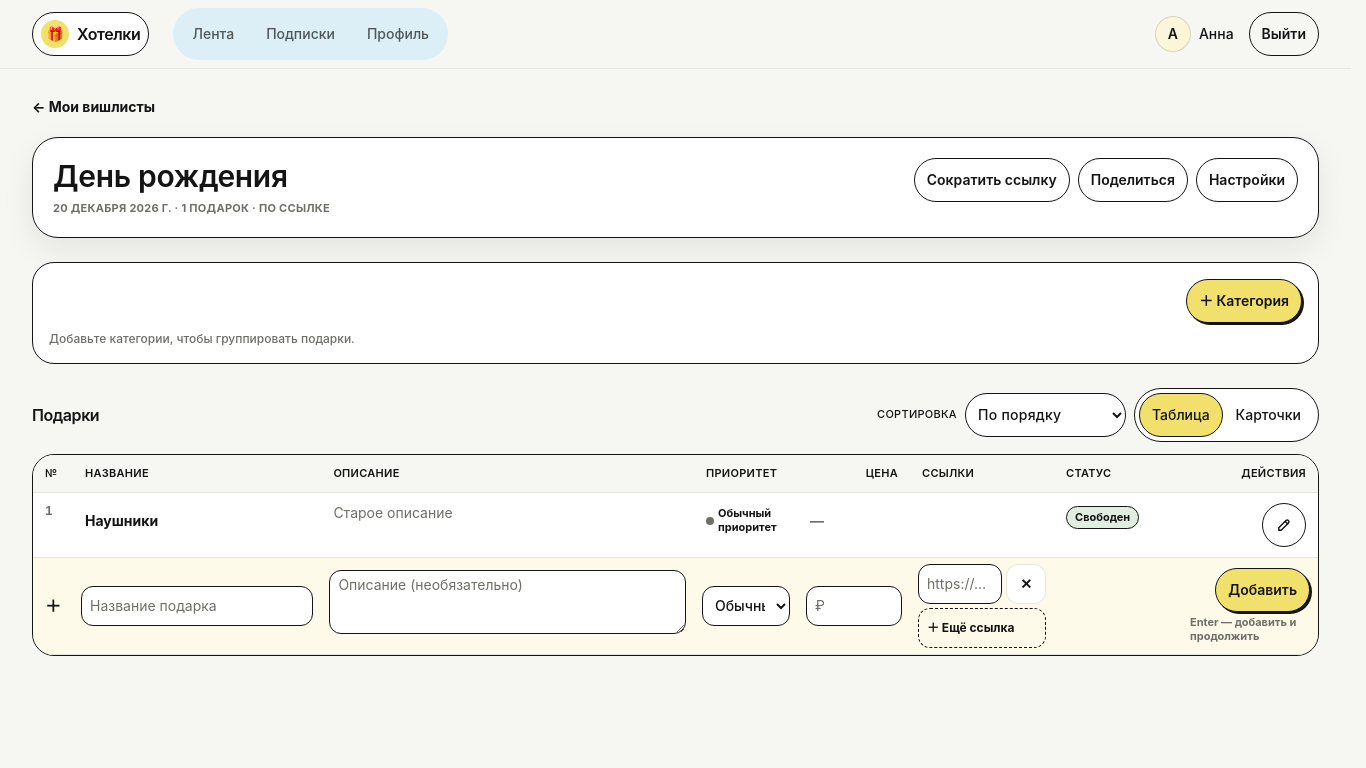
иконка редактирования и модалка › вместо «Детали» — иконка-карандаш, которая открывает модалку
Check: the text "Наушники" is shown, box 85,511 -> 158,531
Click the button named "Редактировать подарок".
click(1284, 525)  # box 1262,503 -> 1306,547
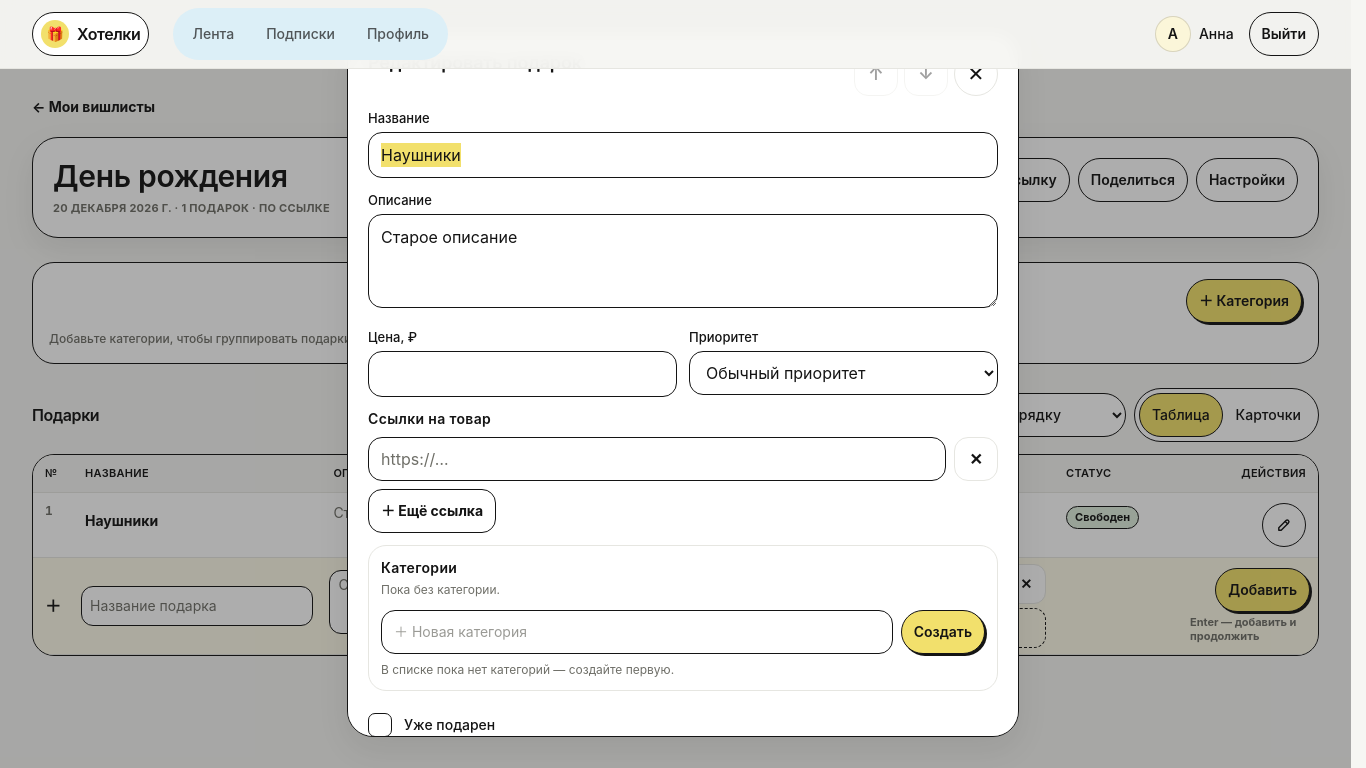
Check: the heading "Редактировать подарок" is shown, box 368,52 -> 582,73
Check: the dialog is shown, box 347,31 -> 1019,737
